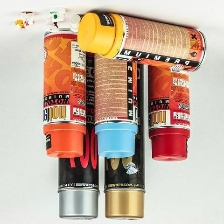aerosol_cans: (74, 8, 210, 76), (101, 39, 149, 223), (54, 45, 101, 222), (39, 25, 91, 160), (91, 34, 141, 161), (145, 44, 191, 165)
